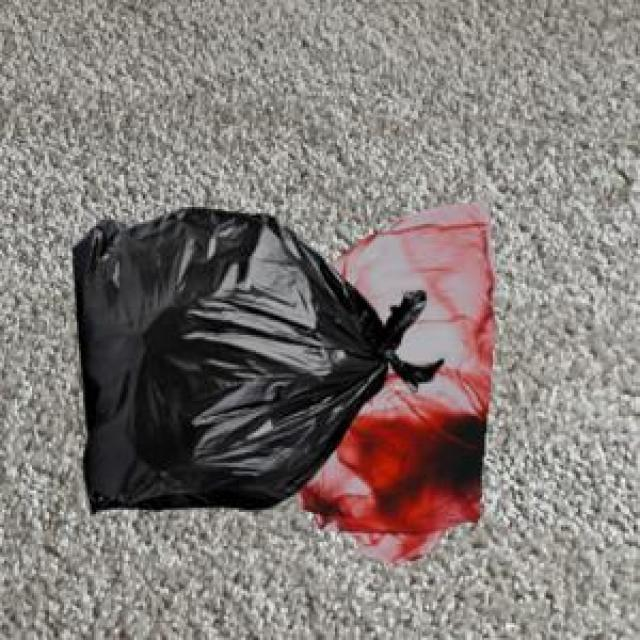miscellaneous trash: (68, 205, 440, 508)
